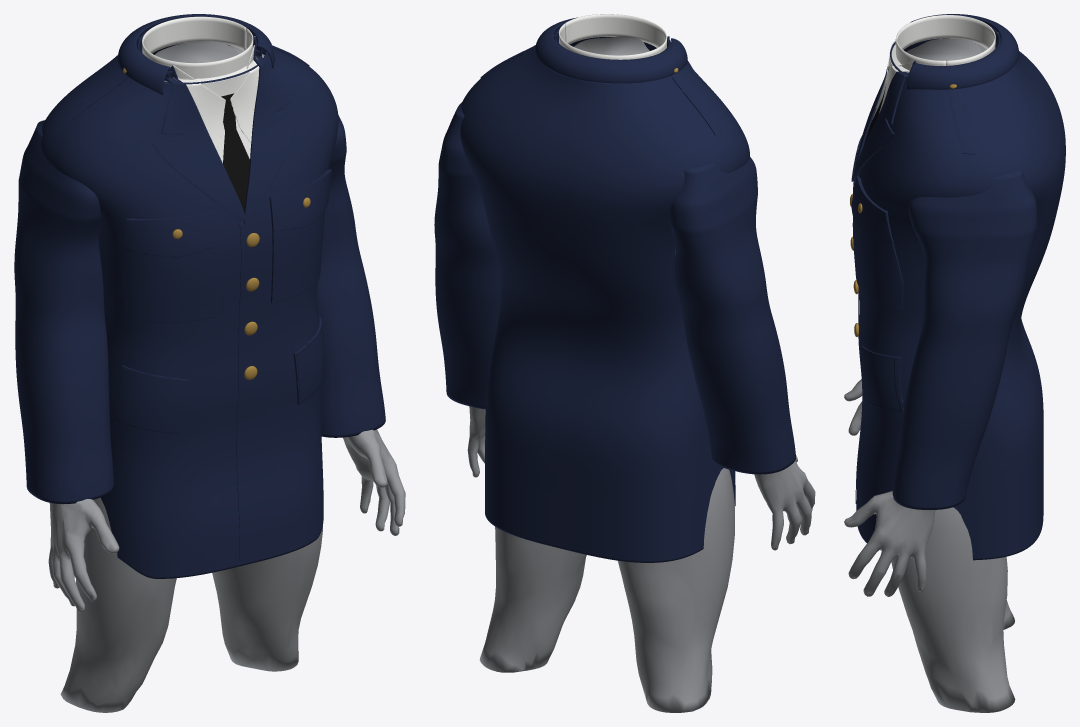
File: coat-asu-male.glb
3 renders of one model, left to right at view 1: azimuth 30°, elevation 25°; view 2: azimuth 150°, elevation 25°; view 3: azimuth 270°, elevation 25°, orthographic. The views are drawn at different scales.
Visible parts, largest first — view 1: Coat, Mannequin, SleeveR, SleeveL, BreastBody-1, LapelR, LapelL, LowerFlap-1, BreastFlap-1, BreastBody1, ShirtCollar, CollarFall (+8 smaller); view 2: Coat, Mannequin, SleeveR, SleeveL, CollarFall, ShirtCollar, Loop-1; view 3: Coat, SleeveL, Mannequin, CollarFall, BreastBody1, ShirtCollar, LowerFlap1, LapelL, BreastFlap1, Loop1, LapelR, ShirtFront.
Boxes of the visible parts, <box> form: Coat: <box>41,36,338,578</box>; Mannequin: <box>48,40,405,712</box>; SleeveR: <box>14,120,113,504</box>; SleeveL: <box>317,115,385,437</box>; BreastBody-1: <box>119,218,218,323</box>; LapelR: <box>149,65,246,222</box>; LapelL: <box>244,45,300,223</box>; LowerFlap-1: <box>115,365,188,434</box>; BreastFlap-1: <box>122,210,219,258</box>; BreastBody1: <box>269,170,328,303</box>; ShirtCollar: <box>142,16,253,81</box>; CollarFall: <box>117,14,274,95</box>; Coat: <box>460,34,749,562</box>; Mannequin: <box>467,36,815,712</box>; SleeveR: <box>669,157,795,474</box>; SleeveL: <box>434,102,500,409</box>; CollarFall: <box>535,17,687,83</box>; ShirtCollar: <box>558,14,666,59</box>; Loop-1: <box>671,72,721,135</box>; Coat: <box>856,33,1065,560</box>; SleeveL: <box>892,169,1037,509</box>; Mannequin: <box>844,38,1015,712</box>; CollarFall: <box>906,14,1019,89</box>; BreastBody1: <box>852,177,903,310</box>; ShirtCollar: <box>896,15,995,65</box>; LowerFlap1: <box>861,345,903,412</box>; LapelL: <box>853,60,916,179</box>; BreastFlap1: <box>851,175,893,243</box>; Loop1: <box>947,88,975,154</box>; LapelR: <box>853,39,895,180</box>; ShirtFront: <box>858,41,918,174</box>.
Size of the model in its own units: 24.03 by 43.1 by 13.9.
